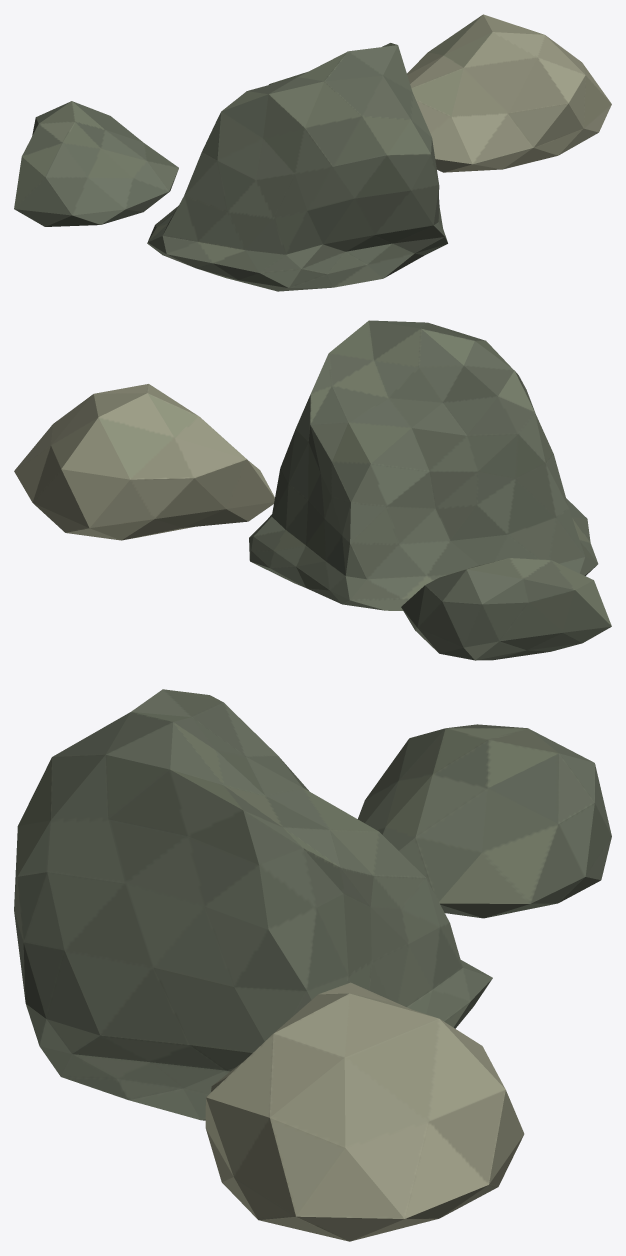
Rendered from SM_Rock_Cluster.glb.
The picture shows the model from 3 angles, top to bottom: view 1: azimuth 30°, elevation 25°; view 2: azimuth 150°, elevation 25°; view 3: azimuth 270°, elevation 25°; orthographic projection. The views are drawn at different scales.
Parts seen in each view (by area): view 1: SM_Rock_Cluster; view 2: SM_Rock_Cluster; view 3: SM_Rock_Cluster.
Boxes of the visible parts, <box> form: SM_Rock_Cluster: <box>14,14,611,291</box>; SM_Rock_Cluster: <box>14,320,611,660</box>; SM_Rock_Cluster: <box>14,689,611,1241</box>.
Size of the model in its own units: 1.98 by 0.7139 by 1.11.
Materials: 1 (1 with a texture image).
